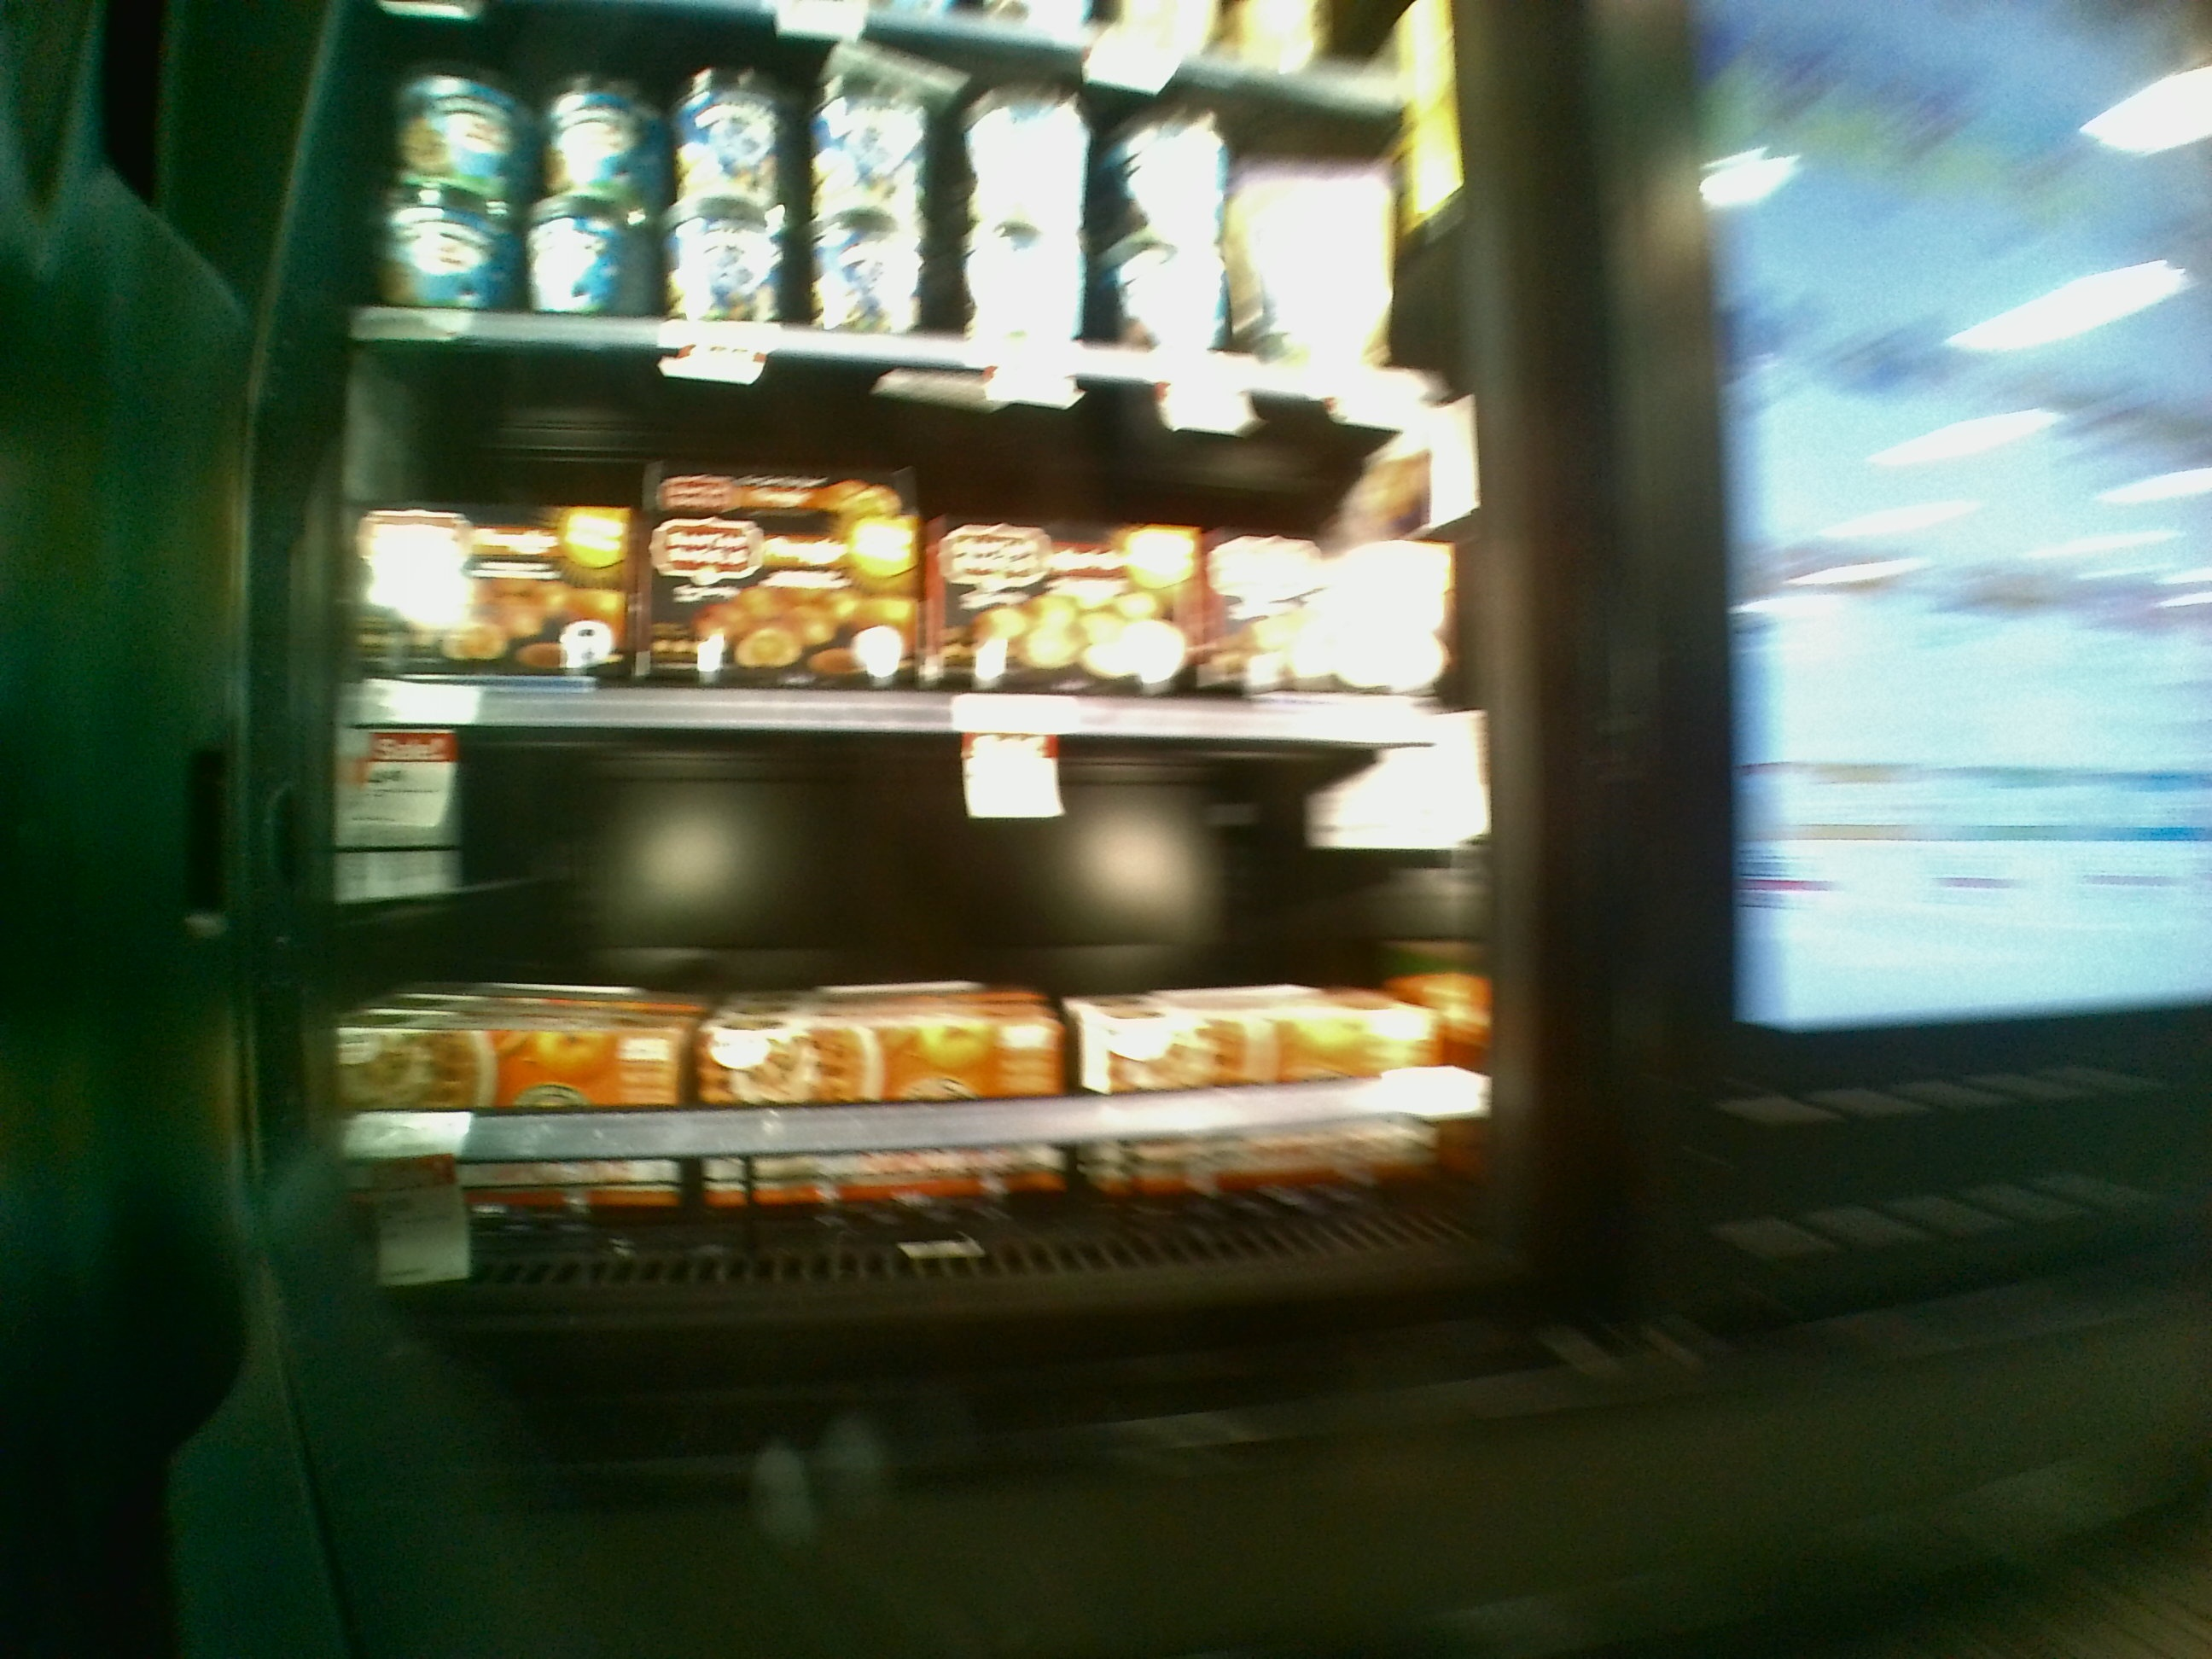shelf: (322, 701, 1536, 1305), (317, 347, 1493, 749)
